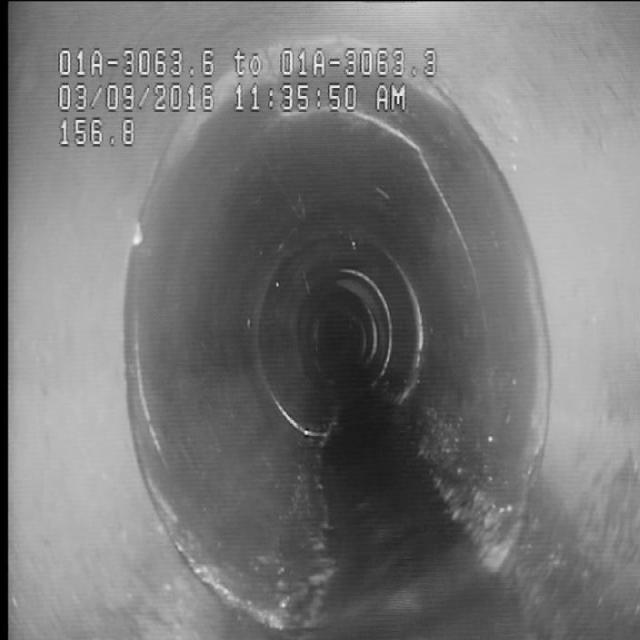Crack: (396, 120, 473, 268)
